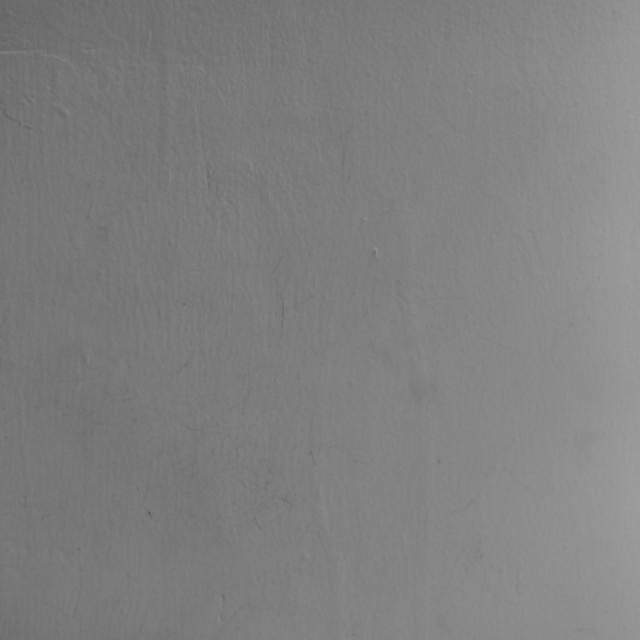rough and patchy surface: (0, 9, 638, 634)
